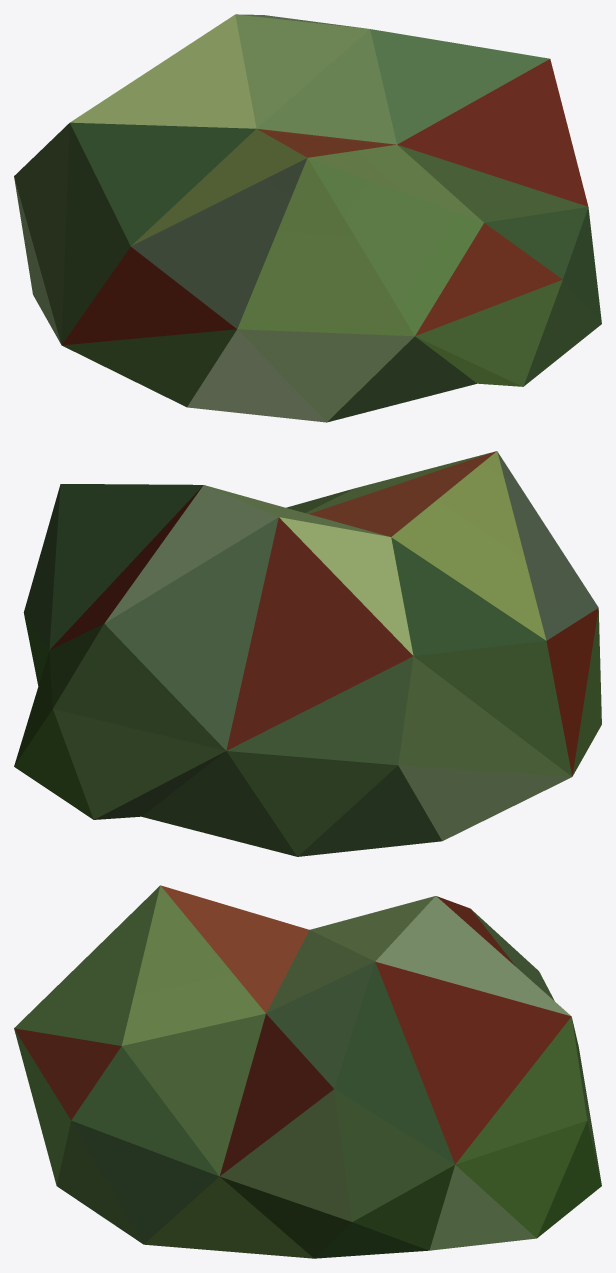
Rendered from Bush_A.fbx.
The picture shows the model from 3 angles, top to bottom: view 1: azimuth 30°, elevation 25°; view 2: azimuth 150°, elevation 25°; view 3: azimuth 270°, elevation 25°; orthographic projection. The views are drawn at different scales.
Visible parts, largest first — view 1: Bush_A; view 2: Bush_A; view 3: Bush_A.
Boxes of the visible parts, x1,y1,x2,y2 form: Bush_A: (14,14,601,422); Bush_A: (14,451,601,856); Bush_A: (14,885,601,1258).
Bounding box in the file's own units: 189 × 88.09 × 191.
